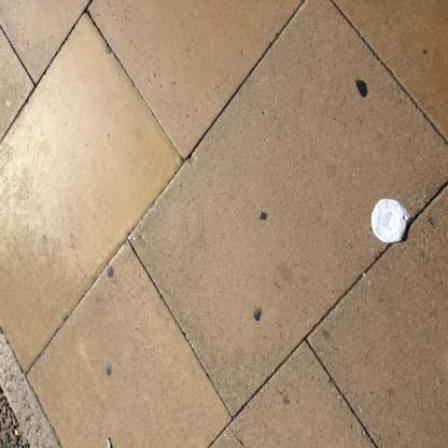Cigarette: (108, 439, 114, 448)
Lid: (373, 200, 412, 244)
